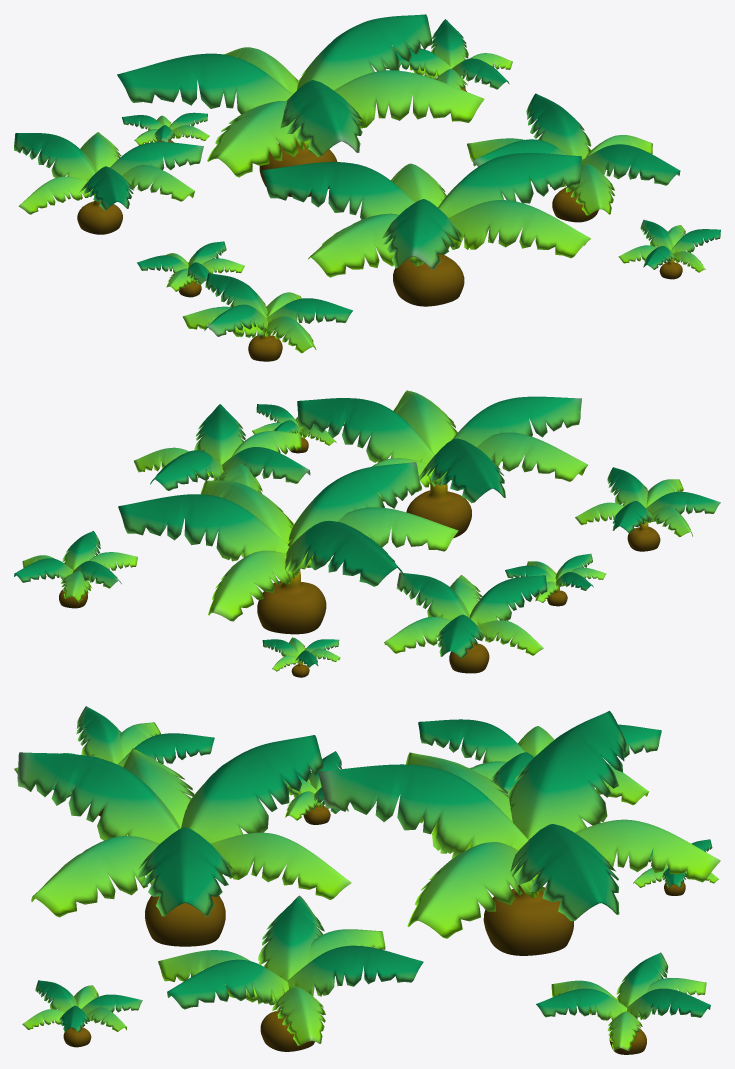
File: Plante base F 3x3.glb
3 views of the same model, one above another, from view 1: azimuth 30°, elevation 25°; view 2: azimuth 150°, elevation 25°; view 3: azimuth 270°, elevation 25° (orthographic). The views are drawn at different scales.
Parts seen in each view (by area): view 1: Plane.001; view 2: Plane.001; view 3: Plane.001.
Part boxes in pixels (x1,y1,x2,y2): Plane.001: (14, 14, 720, 361); Plane.001: (14, 390, 720, 677); Plane.001: (14, 706, 720, 1054).
Bounding box in the file's own units: 5.94 × 1.42 × 5.66.
18 materials, 18 textured.
